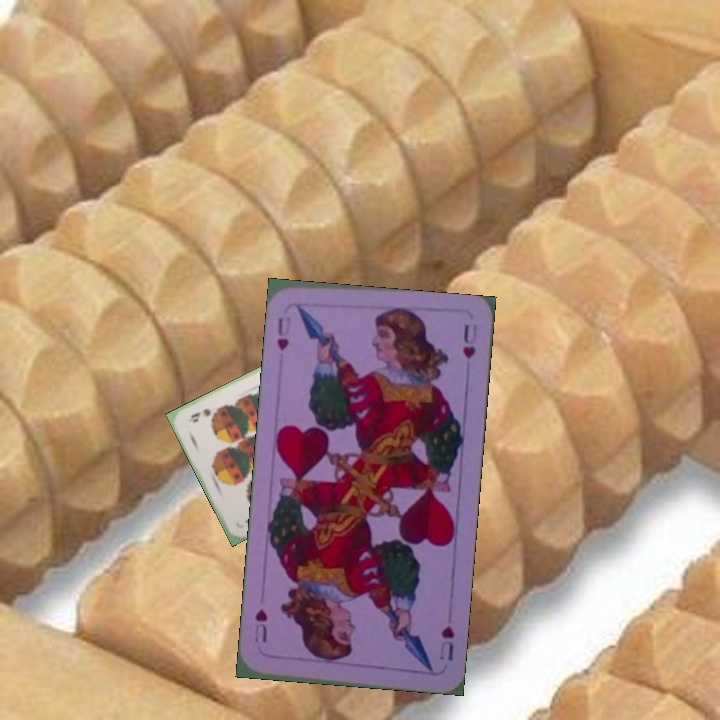HU: (435, 622, 457, 663), (273, 312, 294, 353)
